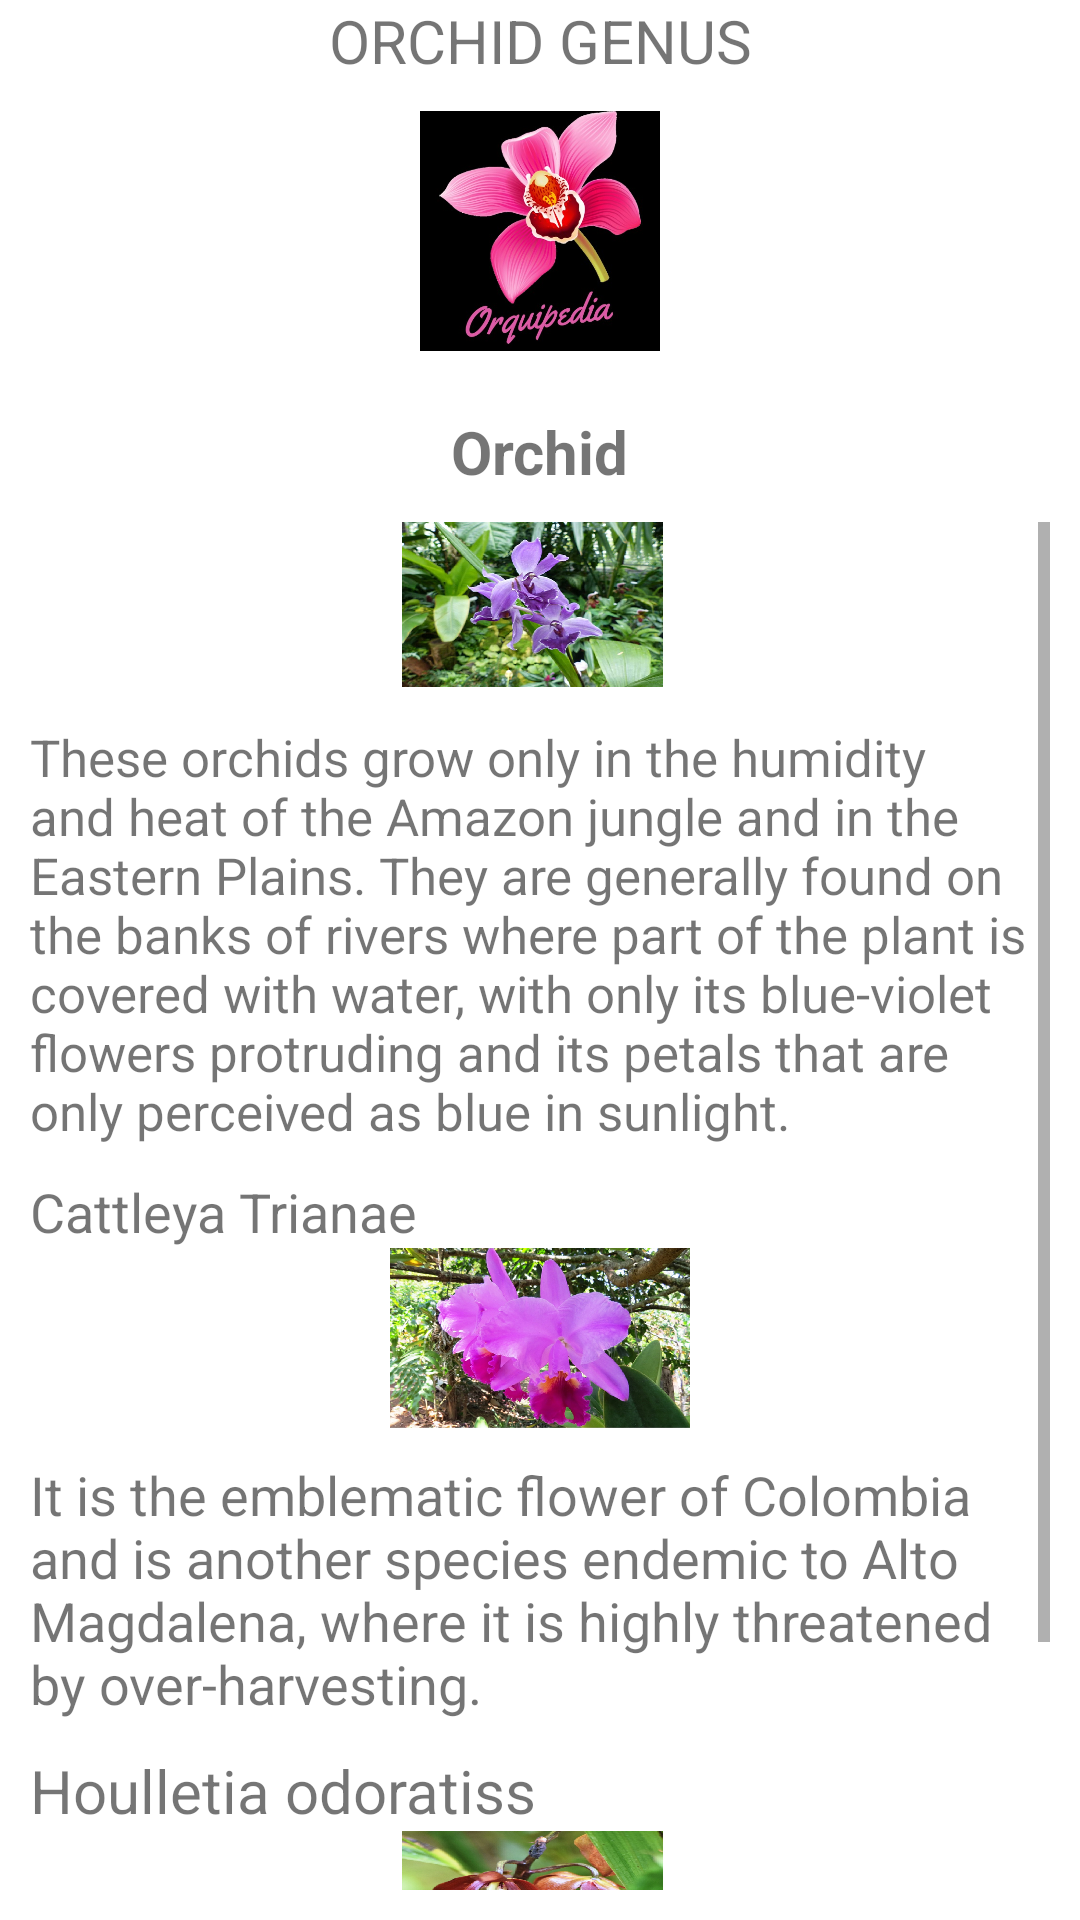

Named icons in this screenshot (1080×1920) and their centers, (x,y):
genero: (532,604)
